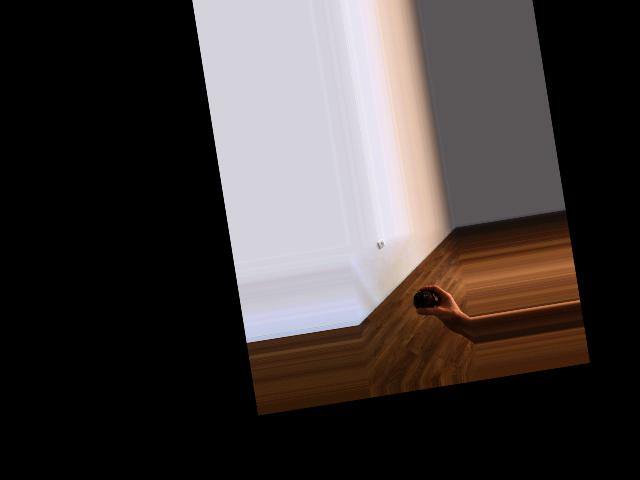beet: (411, 288, 437, 320)
